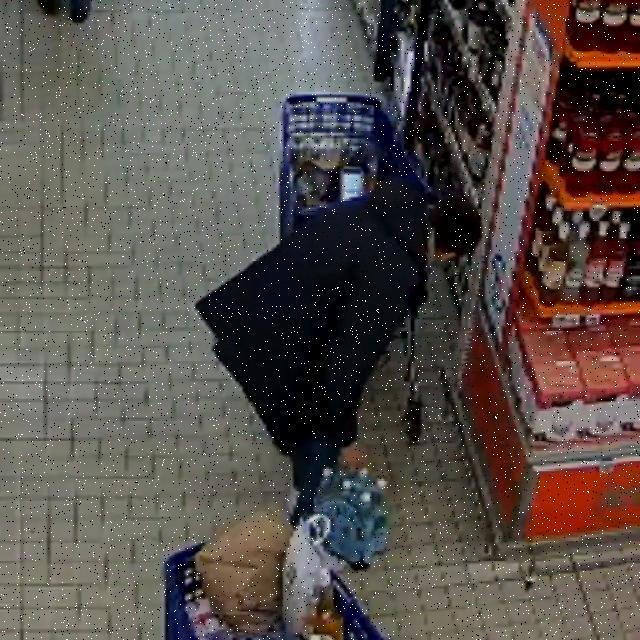article: (312, 465, 388, 569)
hands: (340, 444, 367, 472)
person: (196, 177, 481, 521)
